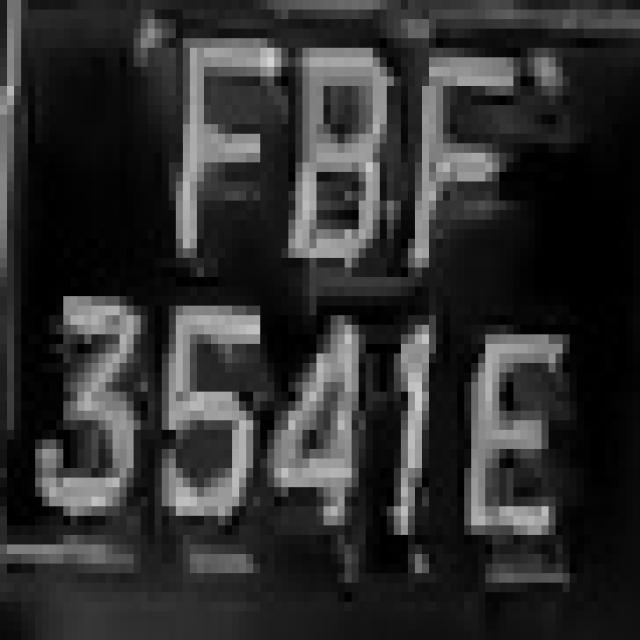1: (373, 268, 450, 573)
3: (49, 267, 148, 554)
4: (274, 286, 373, 544)
5: (155, 258, 267, 573)
B: (274, 10, 408, 296)
E: (464, 306, 584, 573)
F: (155, 29, 295, 258), (408, 29, 527, 268)
